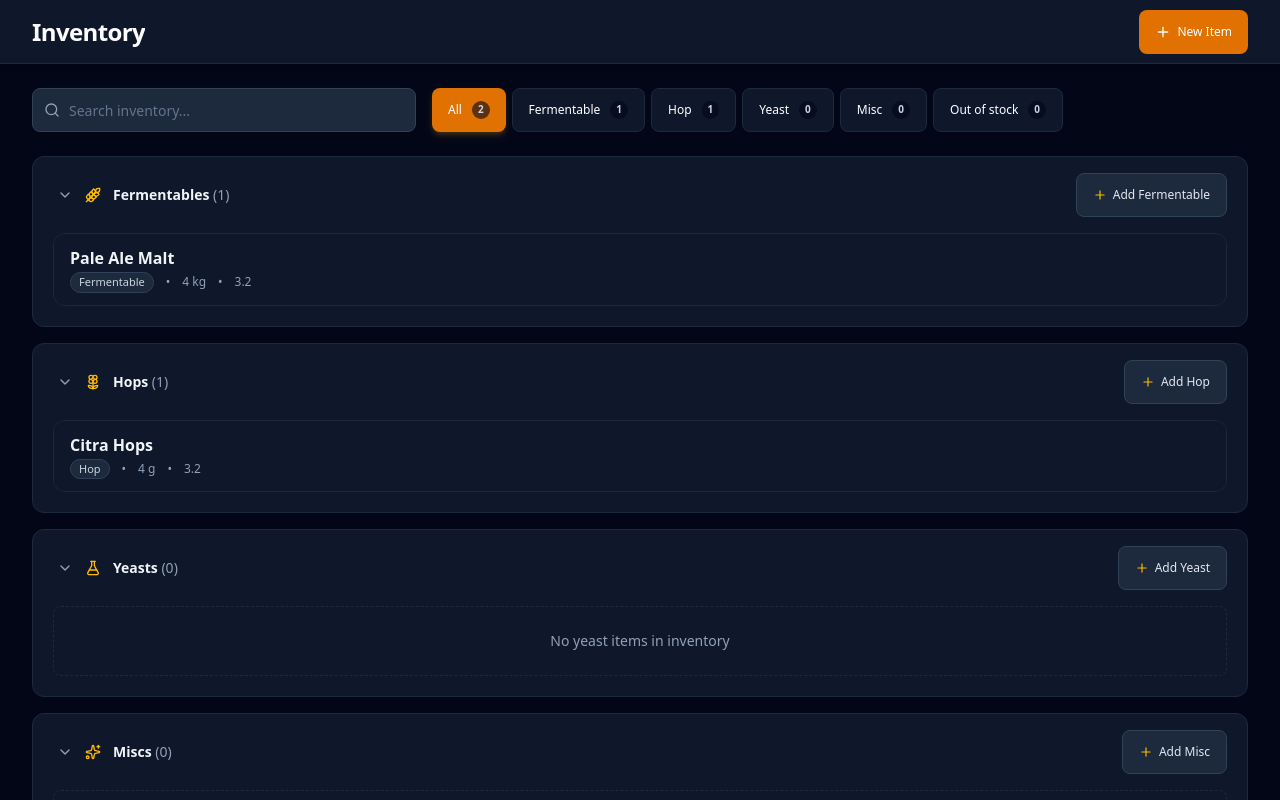
Test: AC-10: global search bar filters items across all 4 category sections live › typing a search query narrows visible rows and count badges
Expected: the button with test id "inventory-row-inv-1" is shown, [54,234,1226,305]
Type "citra" into the field with test id "inventory-search" at (224, 110), box [32,88,416,132]
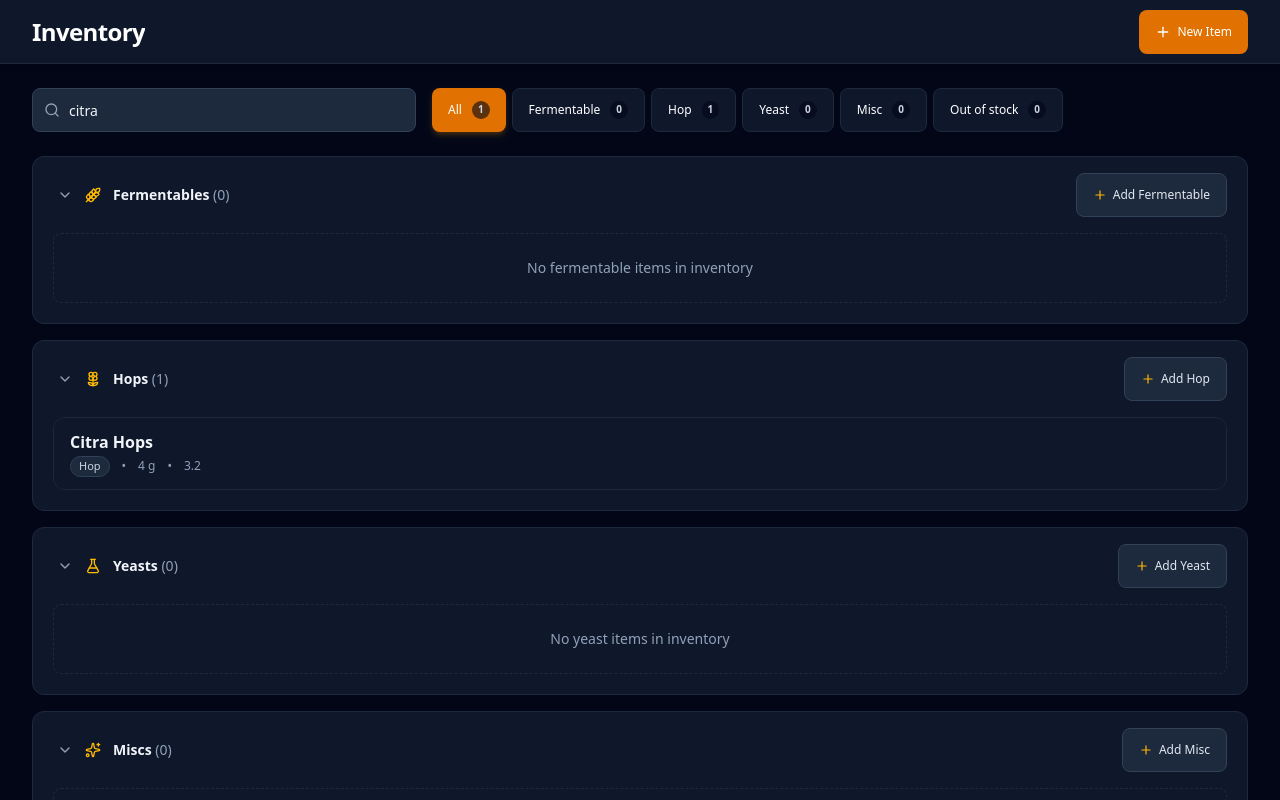
Expected: the button with test id "inventory-row-inv-2" is shown, [54,418,1226,489]
Expected: the button with test id "inventory-row-inv-1" is gone
Expected: the element with test id "inventory-category-header-Fermentable" shows "(0)", [53,173,1227,217]
